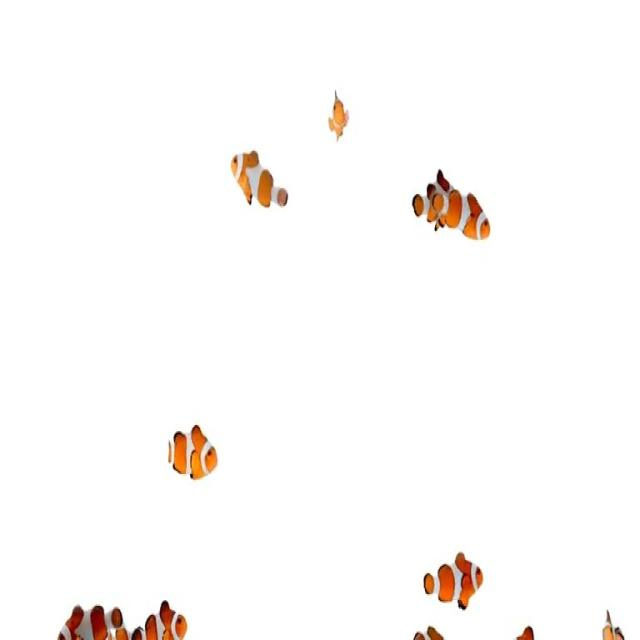fish: (229, 140, 291, 212), (420, 551, 488, 611), (432, 180, 492, 242), (168, 420, 220, 489), (58, 596, 124, 640), (412, 167, 453, 234), (133, 599, 189, 640), (324, 85, 354, 146)
